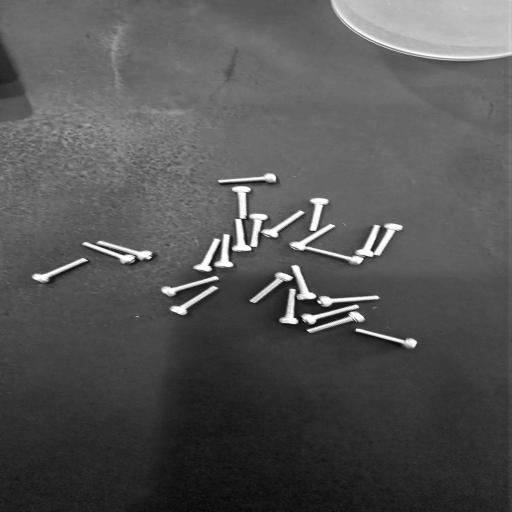Bolt: (170, 286, 218, 315), (33, 258, 87, 283), (250, 272, 293, 303), (161, 276, 219, 297), (290, 224, 335, 251), (307, 312, 364, 333), (355, 329, 417, 348), (261, 211, 304, 238), (305, 246, 364, 265), (83, 243, 136, 264), (301, 305, 359, 324), (97, 241, 154, 260), (193, 239, 220, 272), (374, 224, 402, 255), (292, 265, 316, 300), (355, 225, 380, 257), (317, 296, 379, 307), (214, 234, 234, 268), (279, 289, 298, 324), (309, 198, 329, 231), (249, 214, 268, 247), (232, 219, 251, 252), (232, 187, 251, 219), (218, 174, 277, 184)
